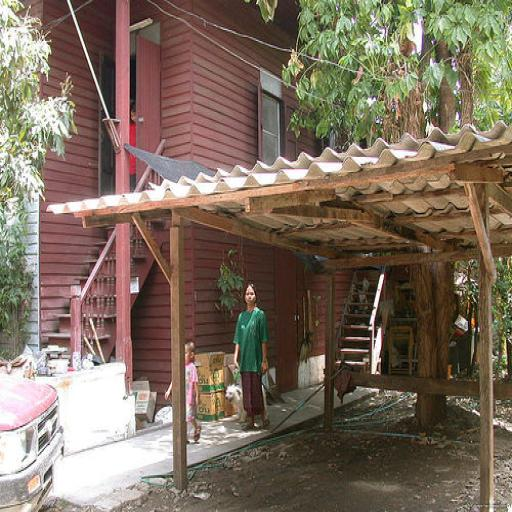car: (0, 365, 68, 509)
person: (236, 283, 270, 430), (165, 340, 201, 444), (129, 102, 137, 194)
